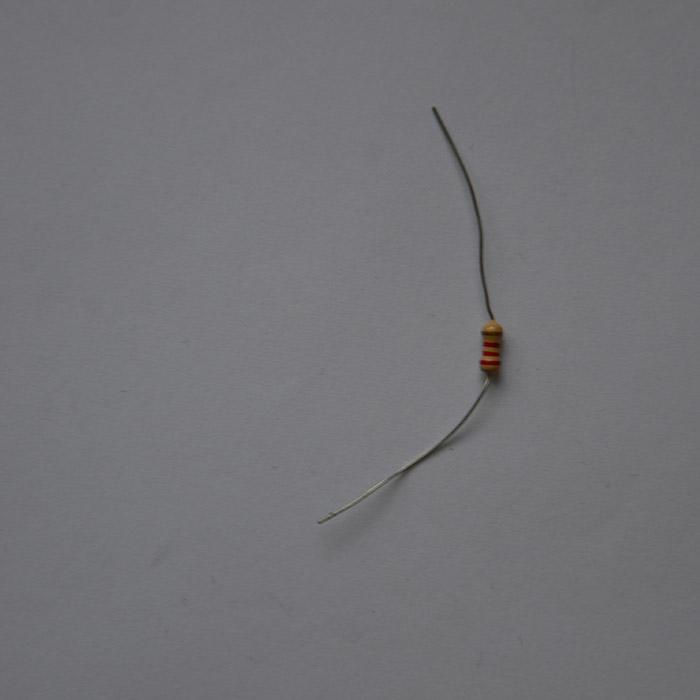resistor: (478, 320, 502, 371)
